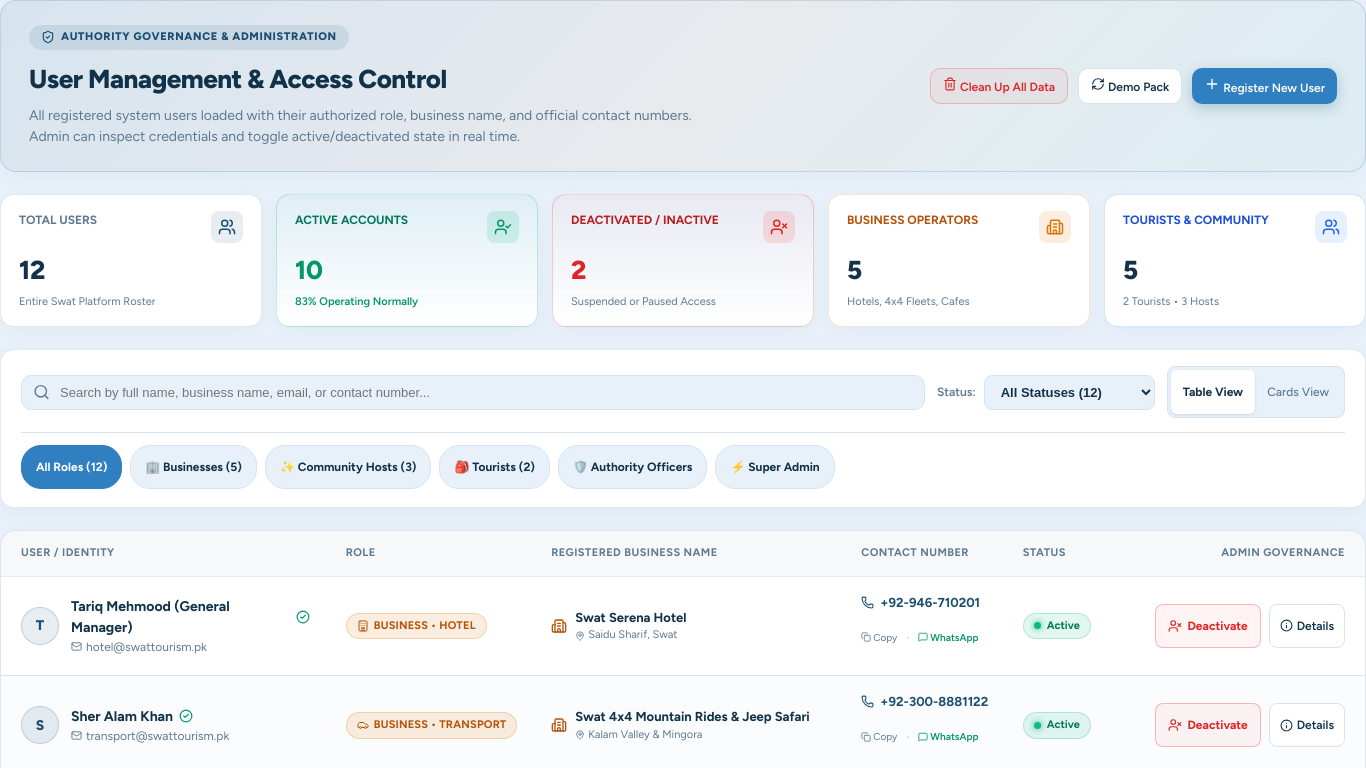
Test case: User Management Page on Admin & Authority Portal › opens and closes profile inspector modal with complete user details
Click the button with test id "btn-inspect-user-usr-biz-01".
click(1307, 626)  # box [1269,604,1345,648]
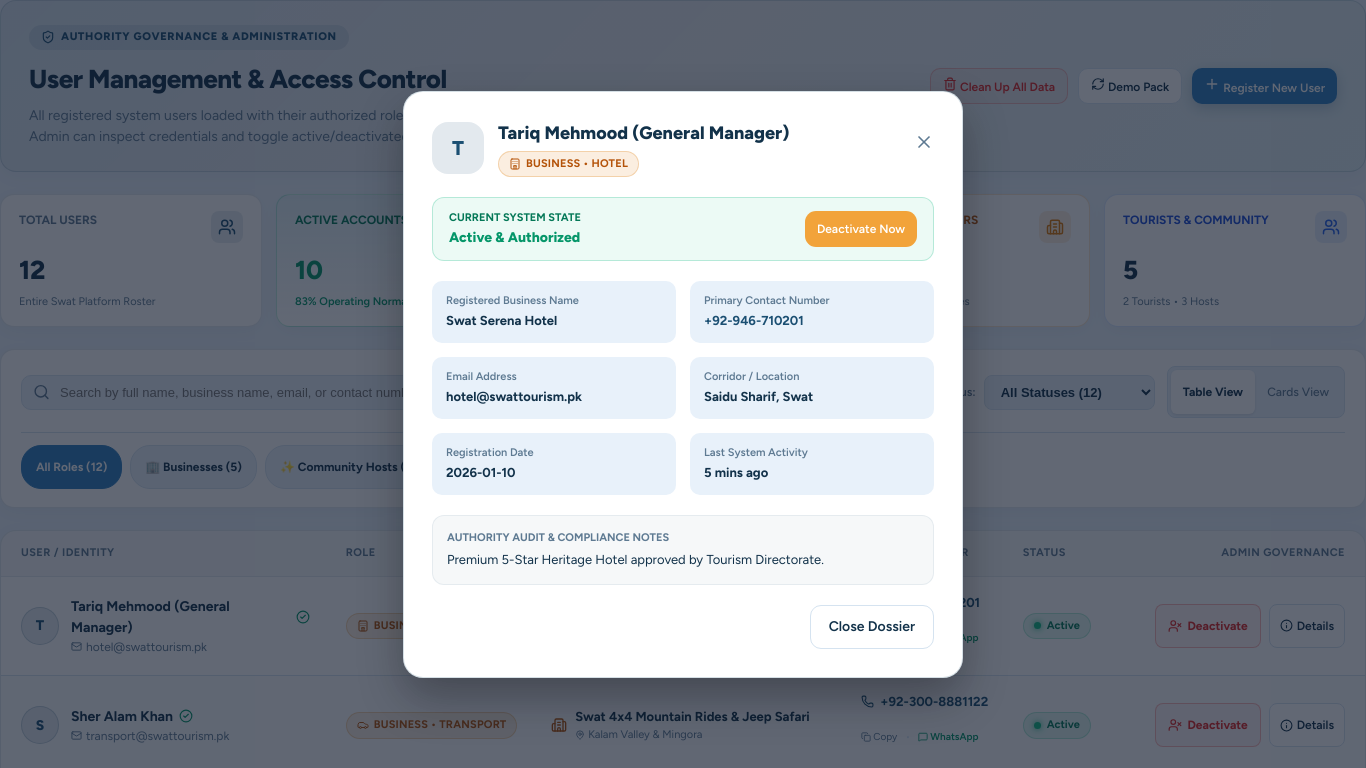
Check: the element with test id "modal-inspect-user" is shown
Check: the text "Current System State" is shown, box [449,210,581,226]
Click the button "Close Dossier".
click(872, 626)  # box [810,604,934,648]
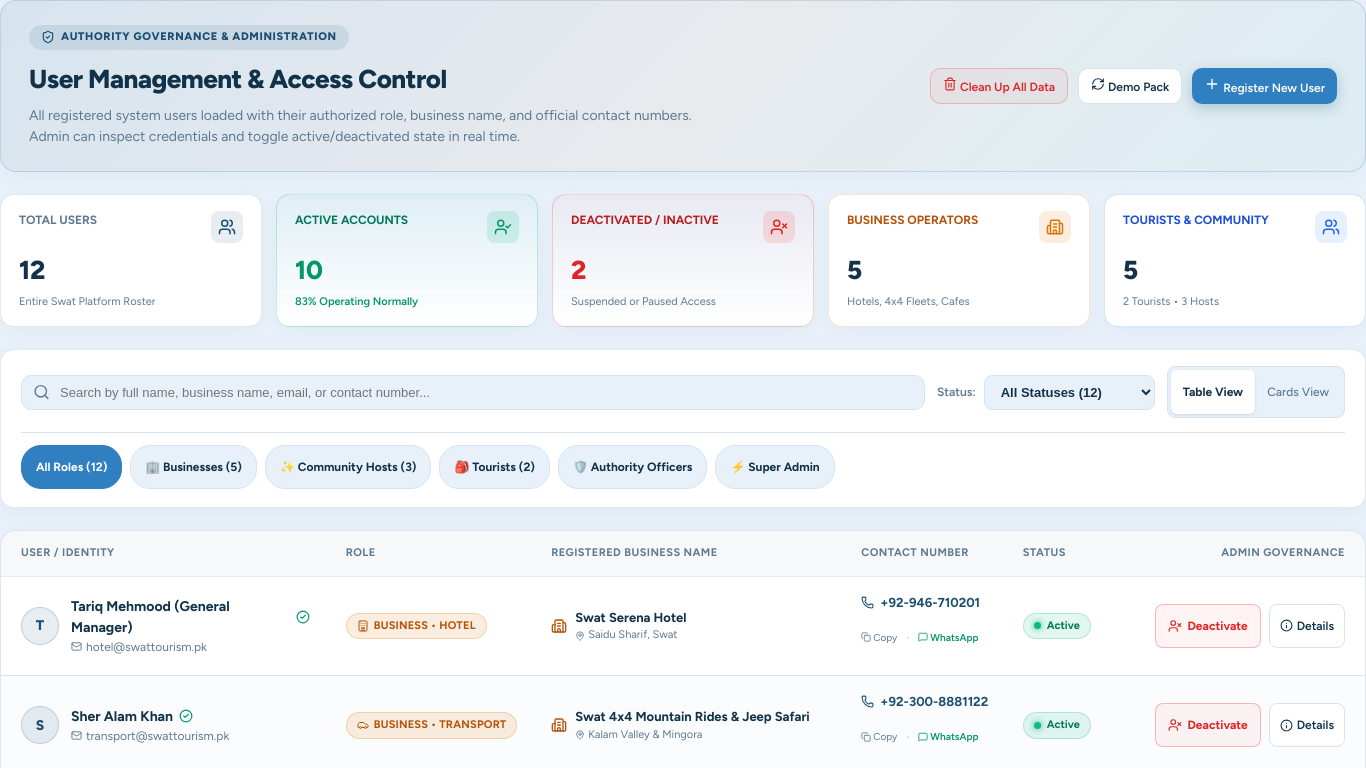
Check: the element with test id "modal-inspect-user" is gone
